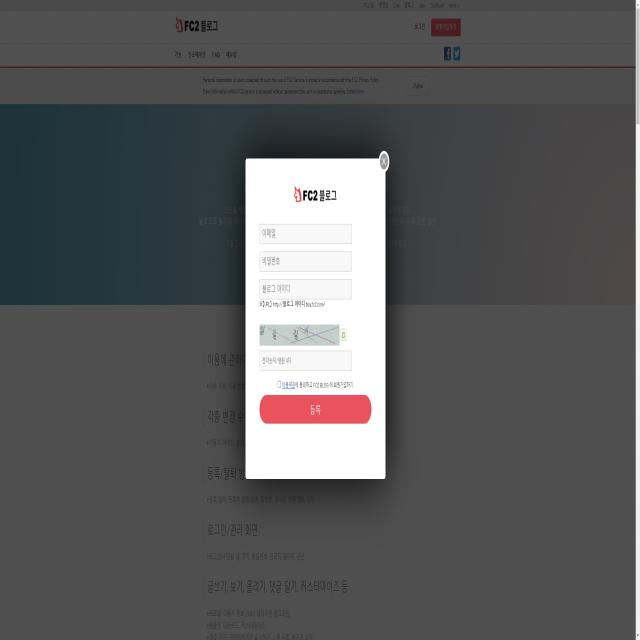tab-bar: (173, 43, 242, 65)
